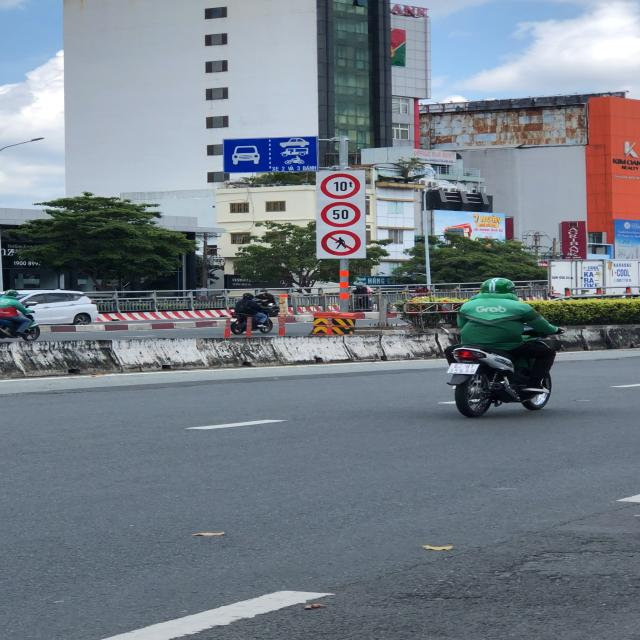Bien bao cam nguoi di bo: (320, 230, 370, 258)
Bien bao toc do toi da cho phep: (320, 200, 366, 228)
